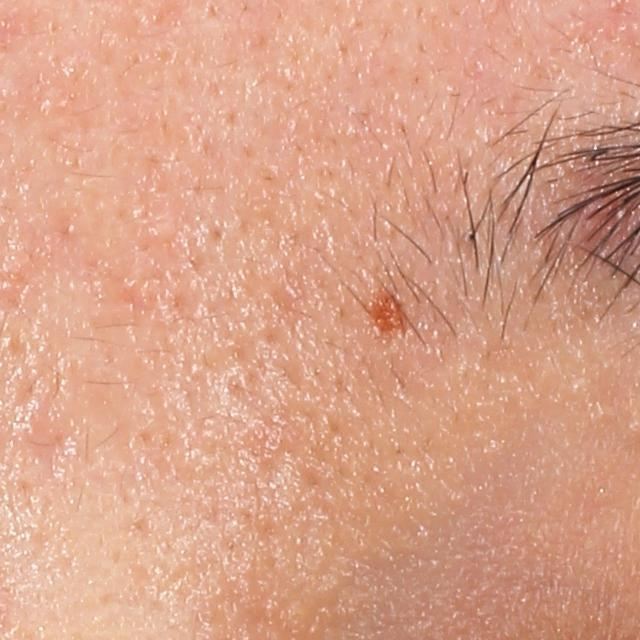nevus: (371, 290, 419, 337)
